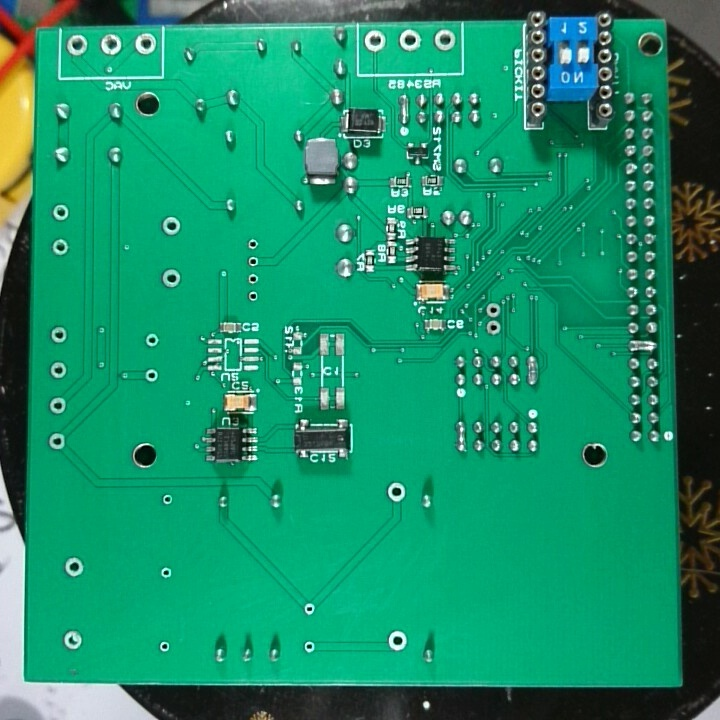F: (431, 26, 459, 56), (59, 627, 87, 656), (396, 27, 424, 55), (98, 29, 123, 60), (131, 32, 158, 60), (64, 31, 89, 60), (385, 626, 409, 656), (361, 28, 387, 54), (62, 555, 89, 580), (158, 214, 186, 238), (159, 266, 184, 292), (44, 432, 71, 455), (47, 322, 71, 346), (49, 201, 73, 225), (384, 479, 407, 504), (50, 235, 73, 258), (47, 395, 69, 417), (47, 359, 69, 381), (483, 317, 504, 339), (158, 562, 176, 584), (484, 301, 507, 318), (159, 490, 176, 512), (144, 331, 161, 351), (143, 367, 161, 385), (244, 270, 261, 289), (156, 638, 172, 658), (244, 235, 262, 252), (245, 286, 261, 305), (301, 599, 318, 616), (301, 638, 317, 656), (246, 254, 262, 269)
P: (453, 418, 470, 458), (627, 336, 661, 355), (396, 91, 412, 129), (525, 354, 540, 391)
